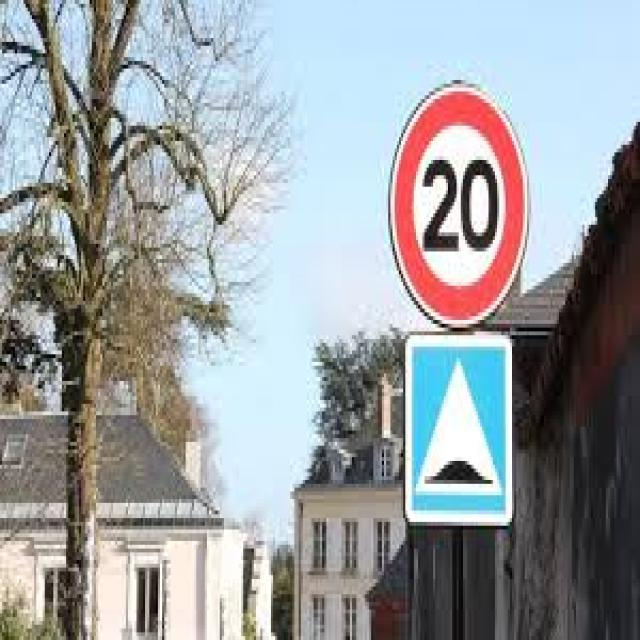speed: (388, 84, 521, 328)
